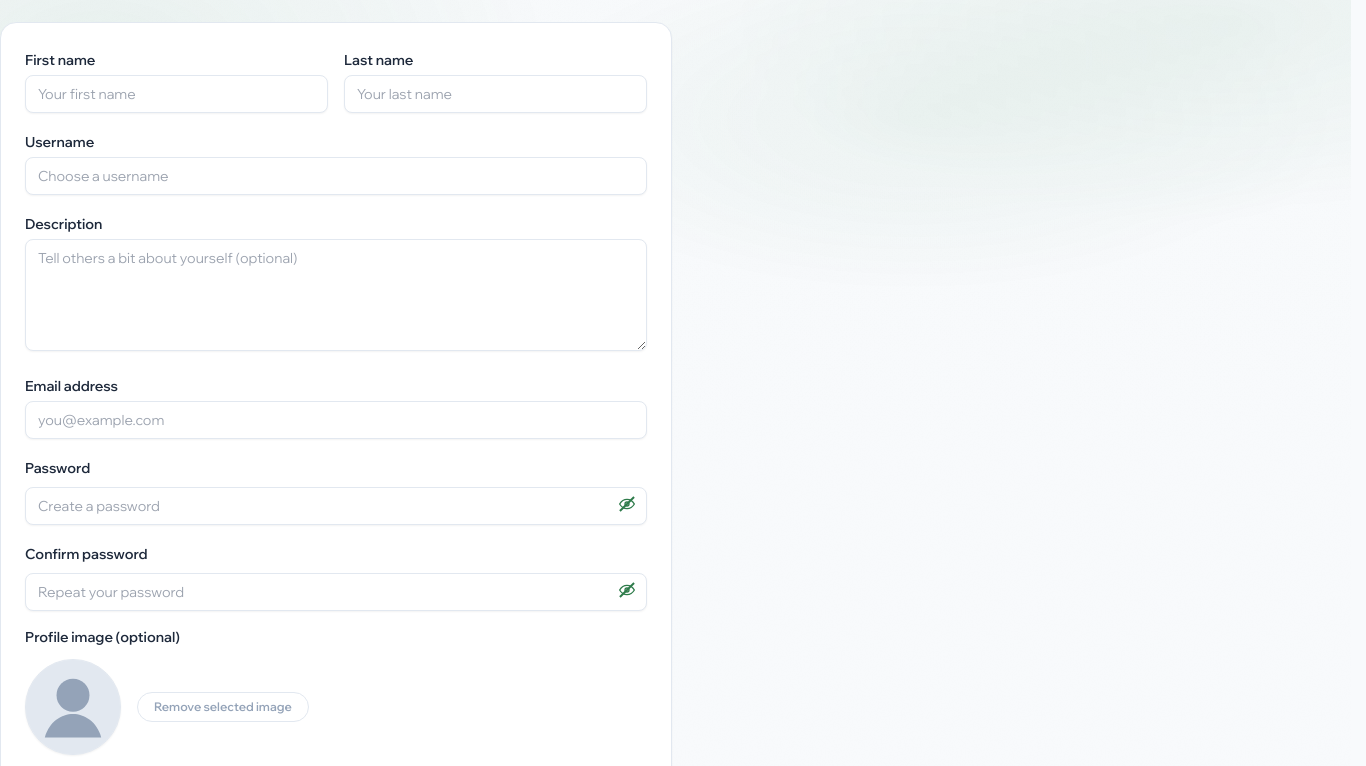
Test case: RegisterForm › prevents submit until legal documents are accepted
In the field labelled "First name": point(176, 94) [25,75,328,113], type "Jamie"
In the field labelled "Last name": point(496, 94) [344,75,647,113], type "Nguyen"
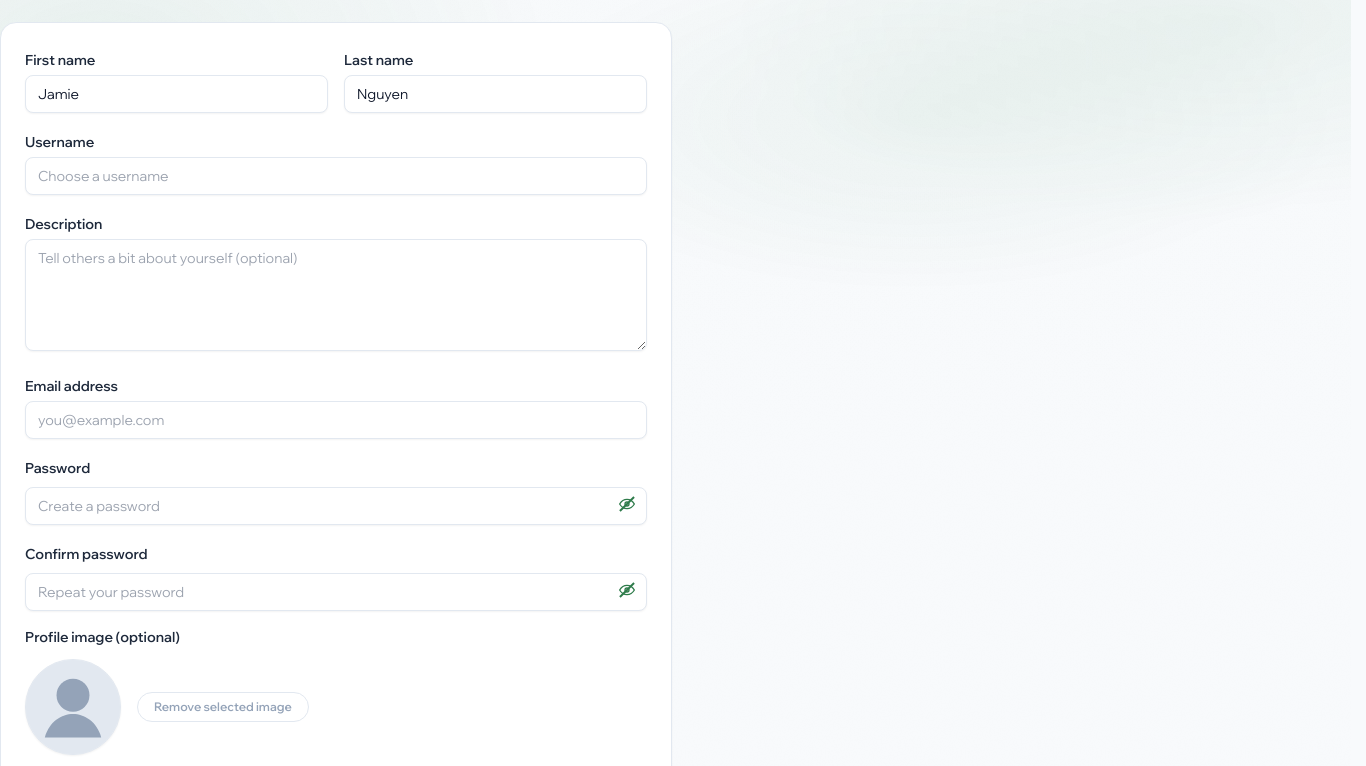
In the field labelled "Username": point(336, 176) [25,157,647,195], type "jnguyen"
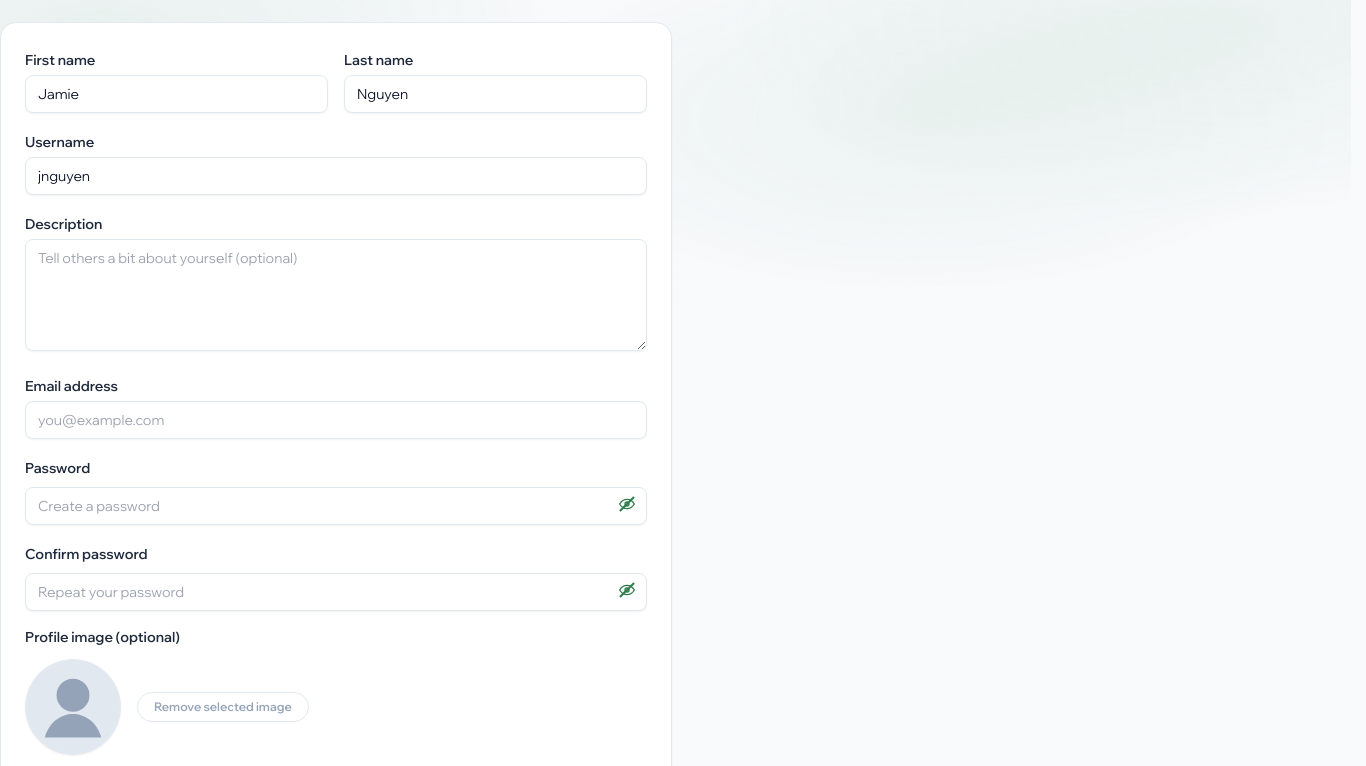
In the field labelled "Email address": point(336, 420) [25,401,647,439], type "jamie@example.com"
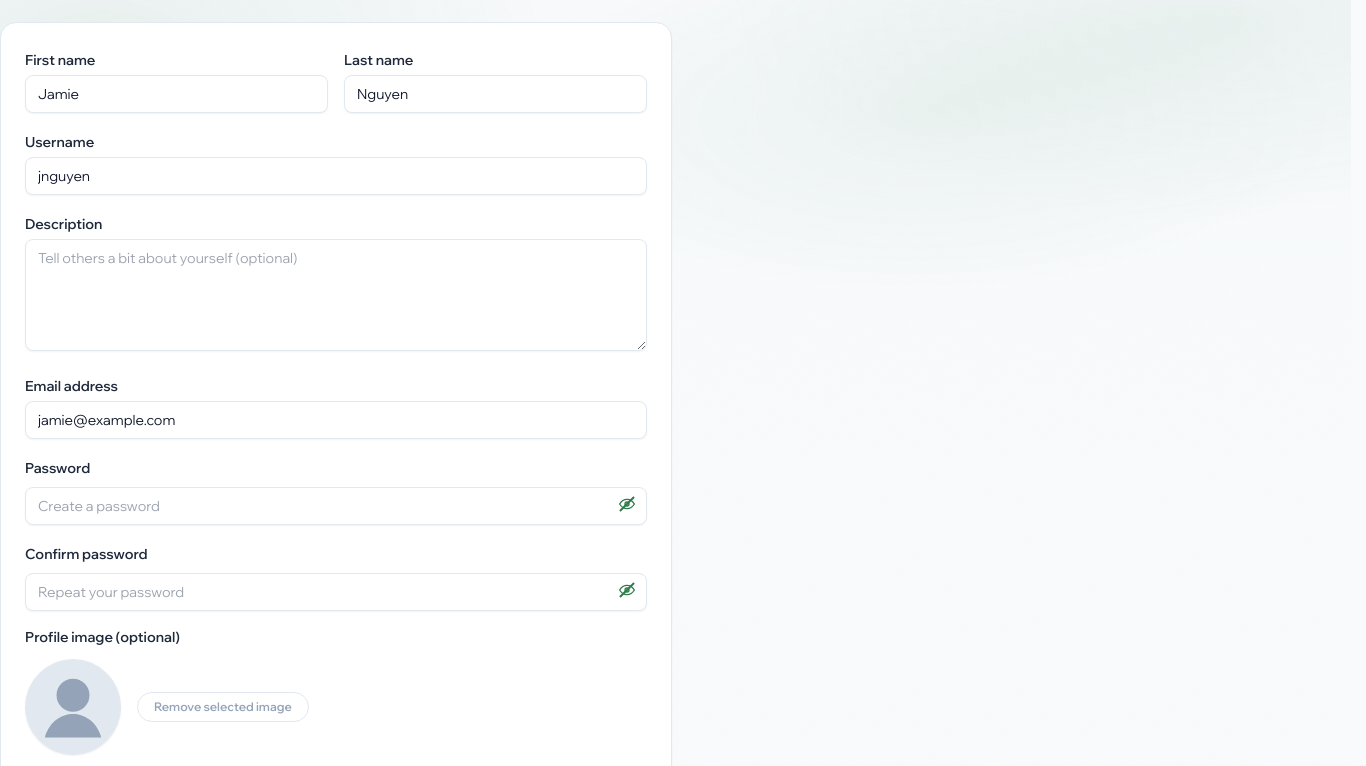
In the password field labelled "Password": point(336, 506) [25,487,647,525], type "password123"
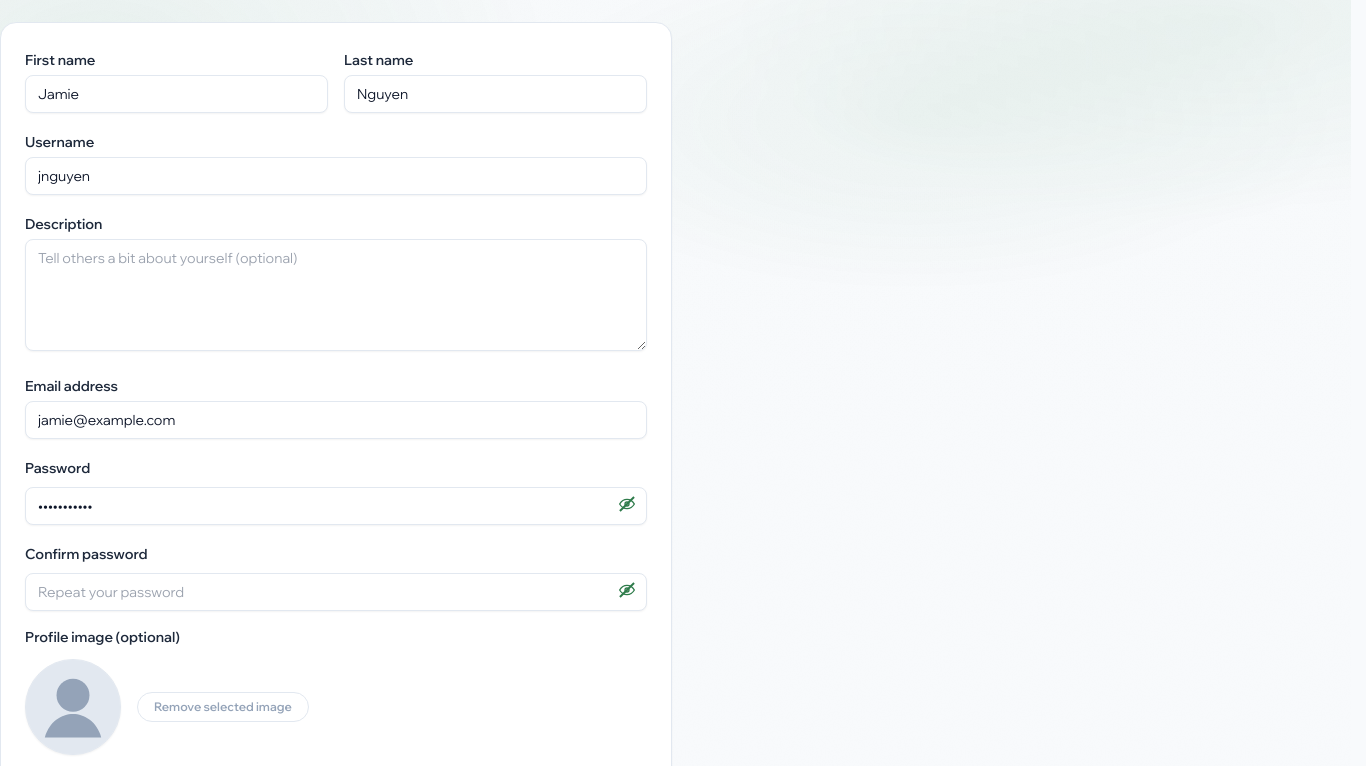
In the password field labelled "Confirm password": point(336, 592) [25,573,647,611], type "password123"
(page scrolled)
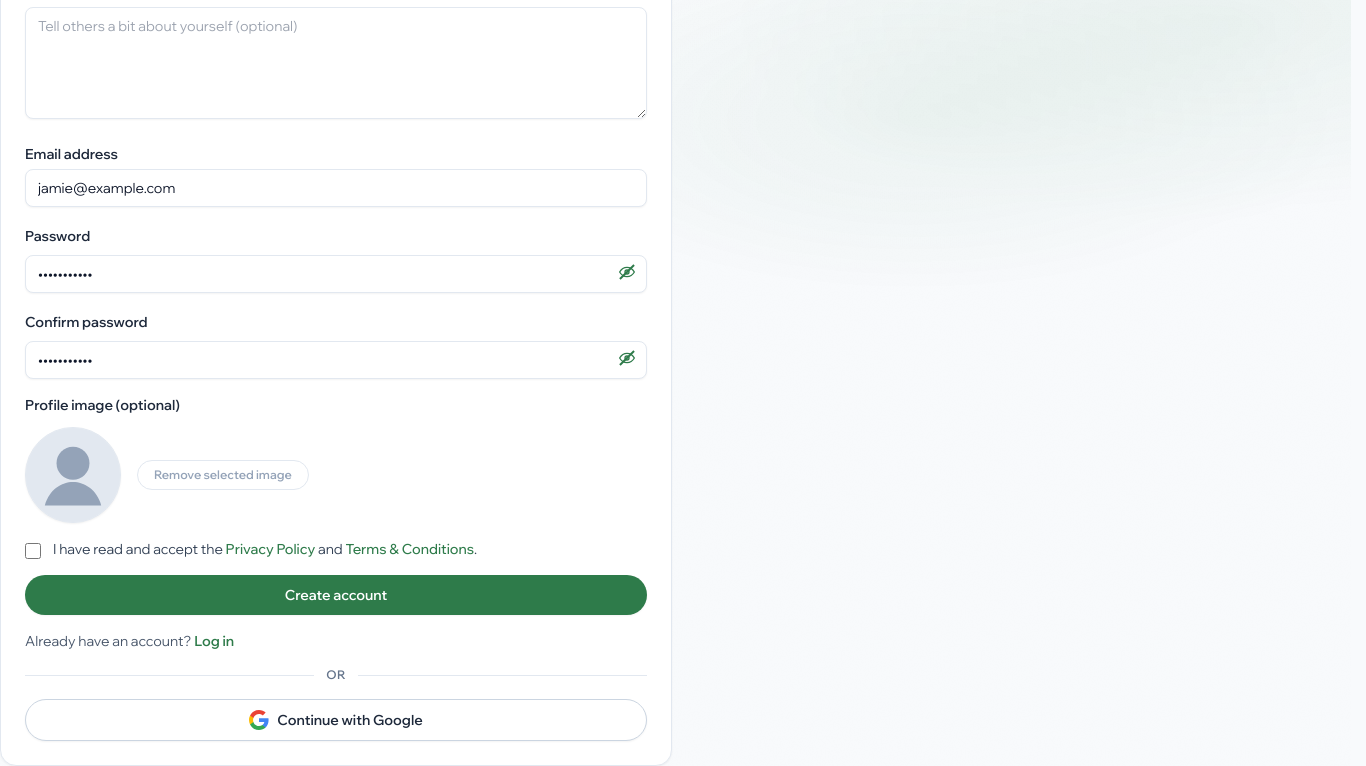
Click the button "Create account": point(336, 595) [25,575,647,615]
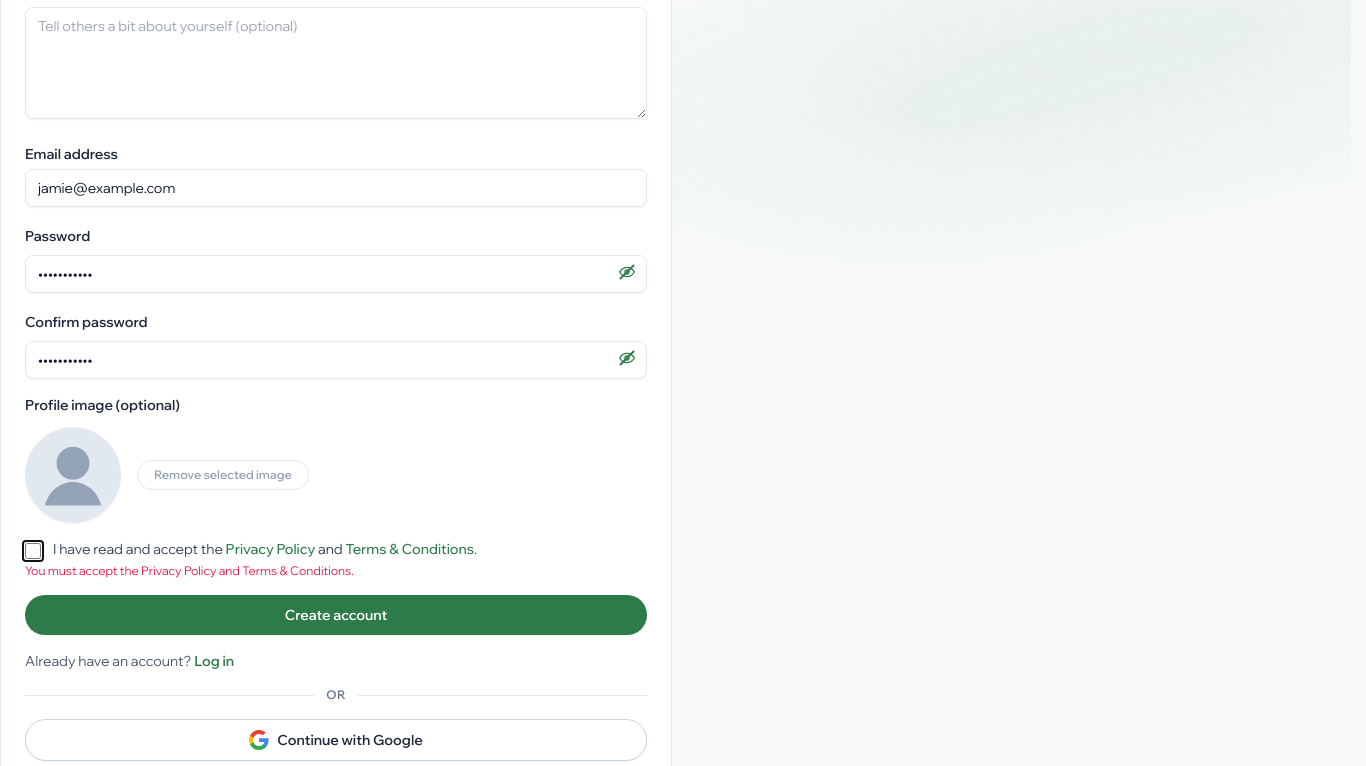
Expected: the text "You must accept the Privacy Policy and Terms & Conditions." is shown, [25,563,354,578]
